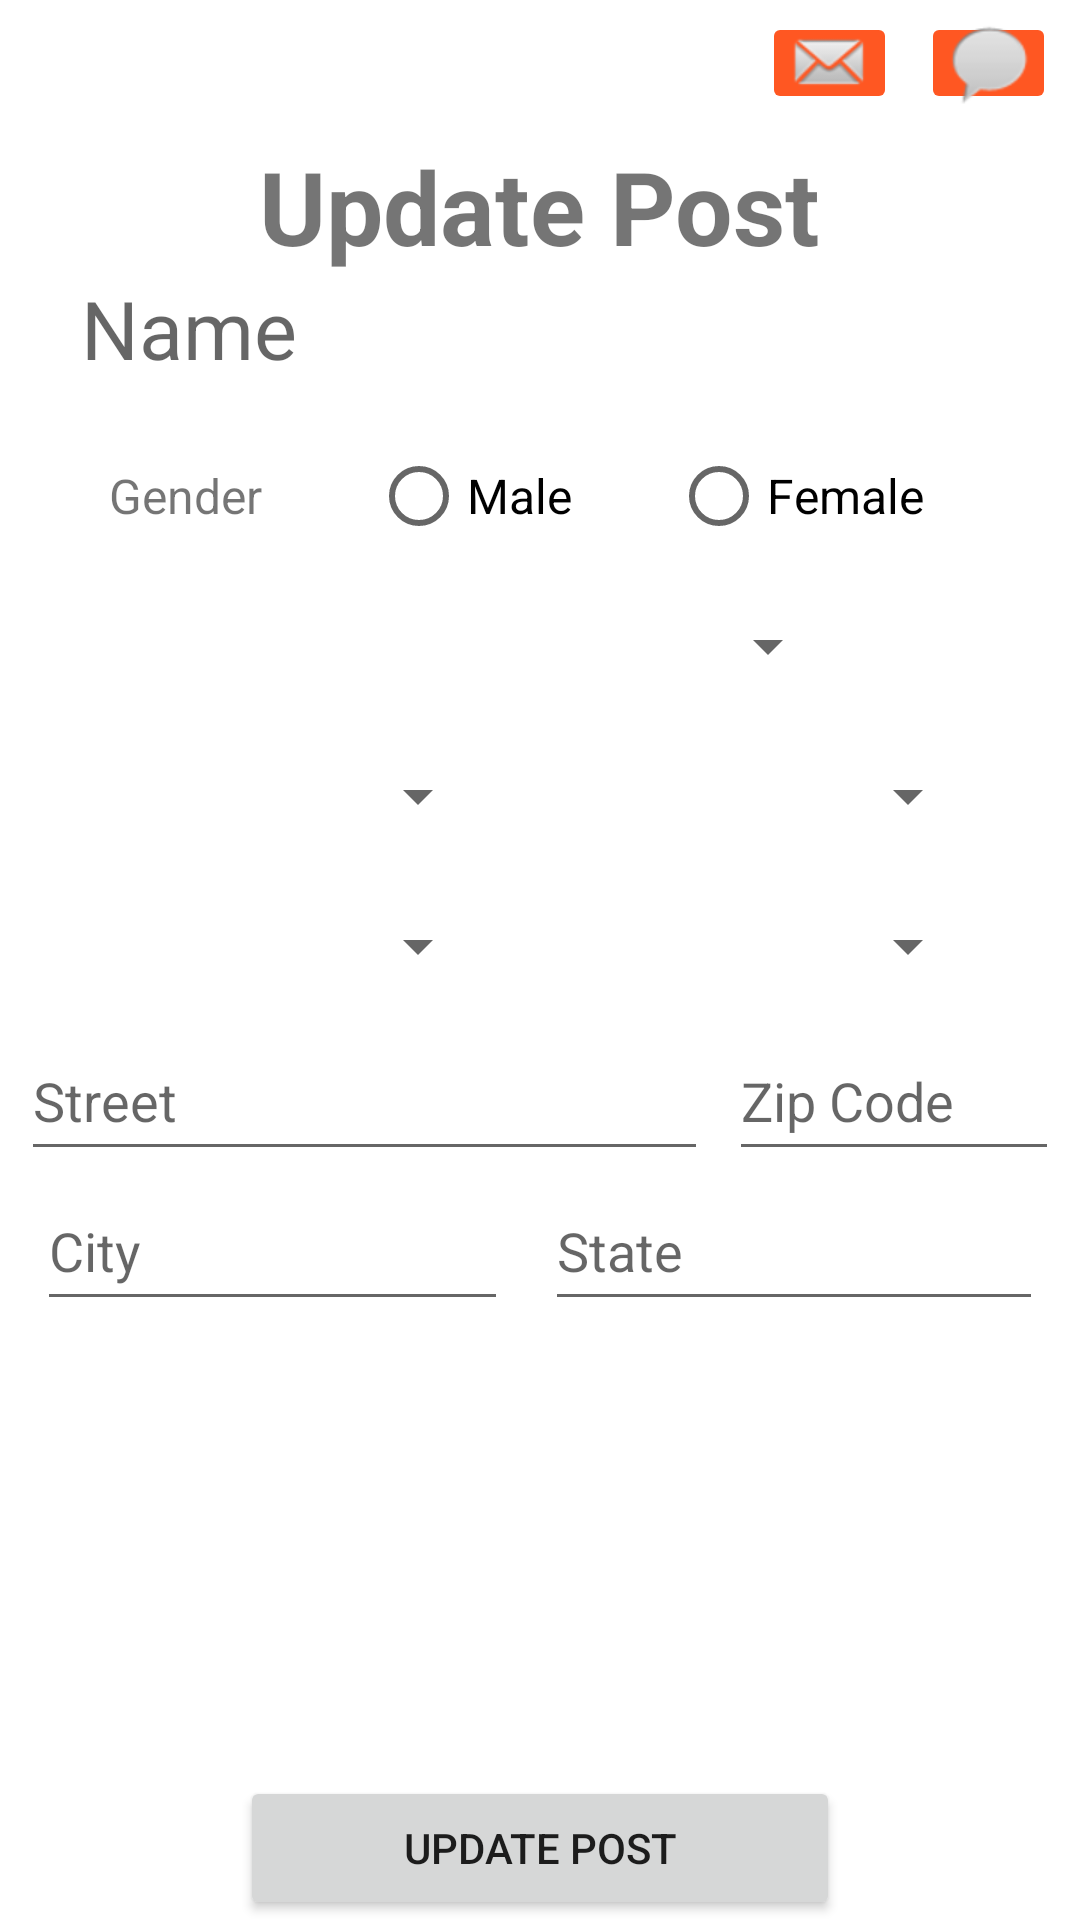

Point at icon controls on the screen. Image size 1080px×1920px, points as point (x, y).
sym action chat: point (988, 64)
sym action email: point (829, 63)
